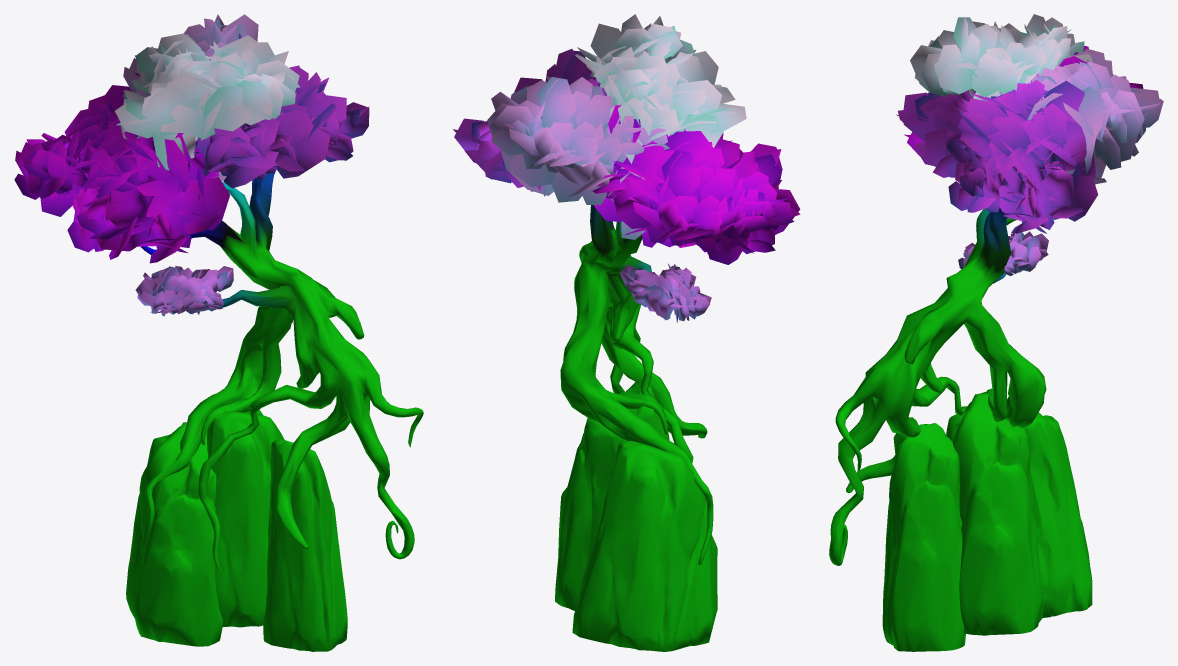
The model's file is M4_EntranceStructure_09.fbx.
The picture shows the model from 3 angles, left to right: view 1: azimuth 30°, elevation 25°; view 2: azimuth 150°, elevation 25°; view 3: azimuth 270°, elevation 25°; orthographic projection.
Parts seen in each view (by area): view 1: SM_EntranceStructure_09.mo; view 2: SM_EntranceStructure_09.mo; view 3: SM_EntranceStructure_09.mo.
Boxes of the visible parts, bbox=[...] form: SM_EntranceStructure_09.mo: bbox=[14, 14, 423, 651]; SM_EntranceStructure_09.mo: bbox=[453, 14, 800, 651]; SM_EntranceStructure_09.mo: bbox=[829, 14, 1163, 651].
Size of the model in its own units: 3065 by 4960 by 2543.
